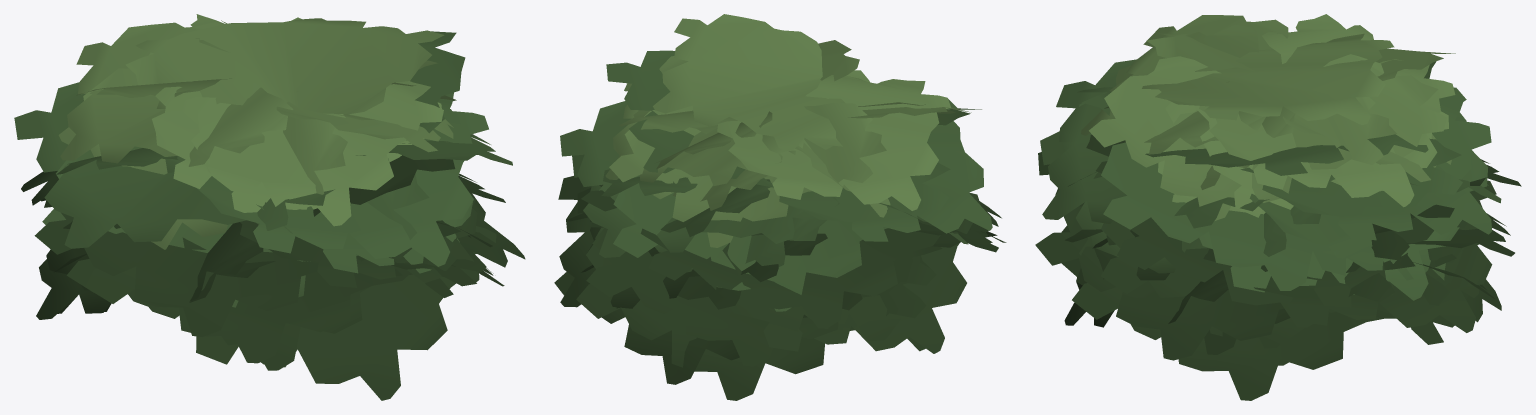
Rendered from NNbush1.fbx.
The picture shows the model from 3 angles, left to right: view 1: azimuth 30°, elevation 25°; view 2: azimuth 150°, elevation 25°; view 3: azimuth 270°, elevation 25°; orthographic projection. The views are drawn at different scales.
Visible parts, largest first — view 1: polySurface475; view 2: polySurface475; view 3: polySurface475.
Boxes of the visible parts, x1,y1,x2,y2 form: polySurface475: [14, 14, 525, 400]; polySurface475: [554, 14, 1006, 400]; polySurface475: [1035, 14, 1521, 400].
Bounding box in the file's own units: 12.26 × 7.03 × 11.56.
